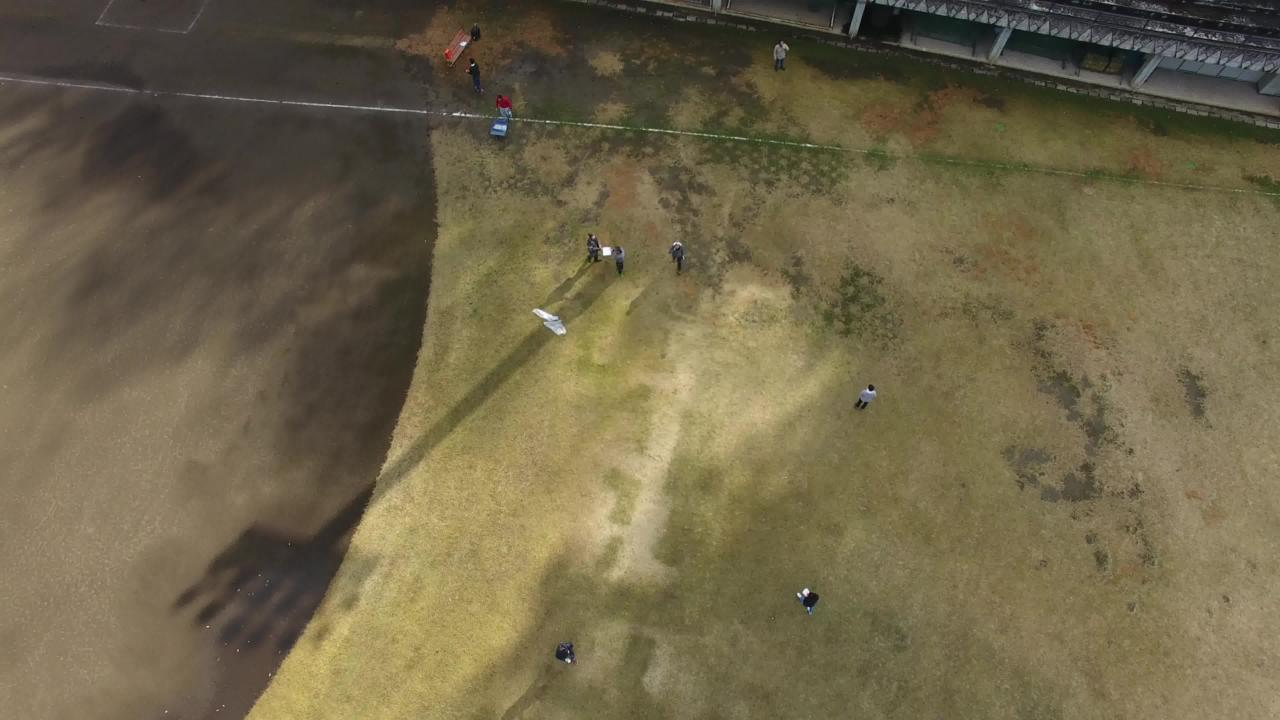person: (607, 229, 634, 277), (765, 35, 792, 83), (796, 574, 823, 622), (857, 368, 884, 416), (459, 47, 486, 95), (549, 638, 576, 686), (573, 223, 600, 271), (670, 230, 687, 281)
